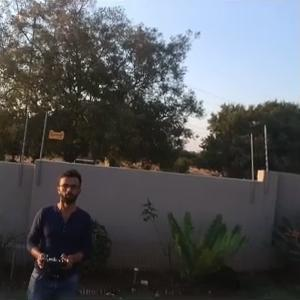follow: (21, 164, 94, 298)
